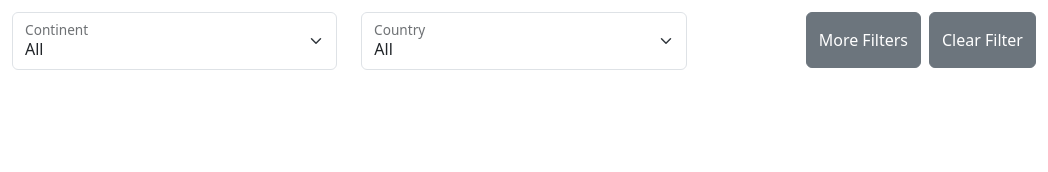
Scenario: DataFilters Component › check less/more filter button is working
Click the button "More Filters" at (863, 40), box x1=806 y1=12 x2=921 y2=68
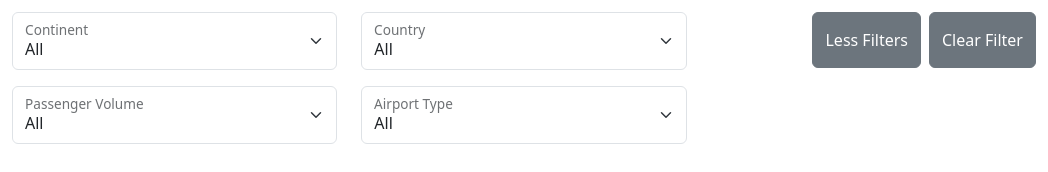
Now the button "Less Filters" is shown, box x1=812 y1=12 x2=921 y2=68
